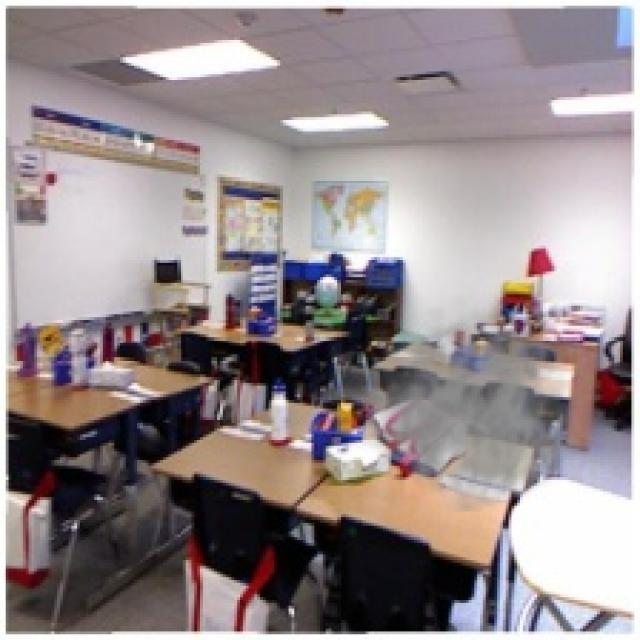smoke: (354, 294, 580, 514)
